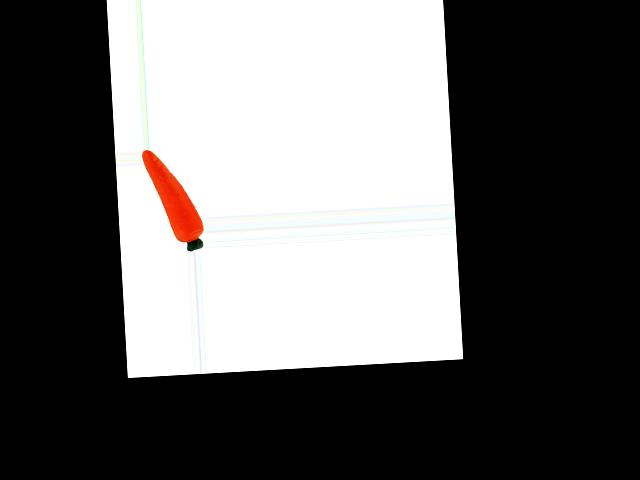carrot: (140, 147, 203, 244)
